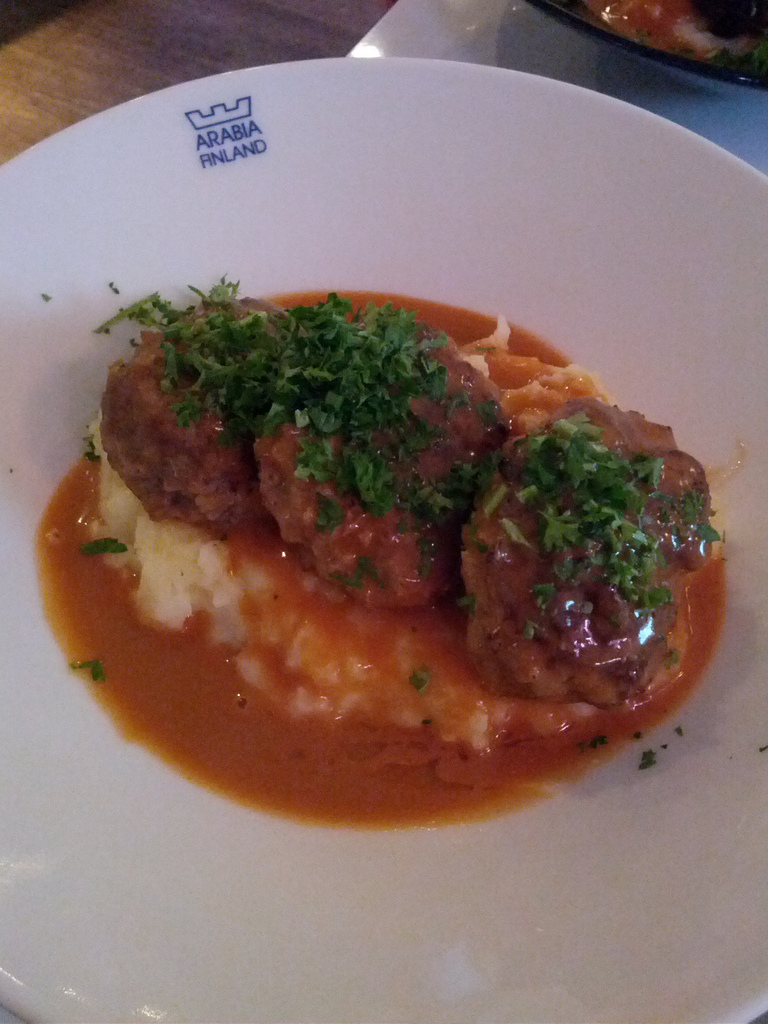meatballs: (259, 337, 477, 591), (487, 429, 688, 670), (108, 313, 267, 522)
